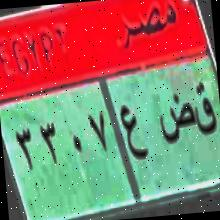0: (72, 131, 84, 157)
3: (14, 125, 36, 181), (38, 121, 61, 166)
7: (86, 108, 109, 158)
ain: (119, 97, 150, 165)
daad: (156, 94, 196, 144)
qaaf: (192, 78, 219, 146)
